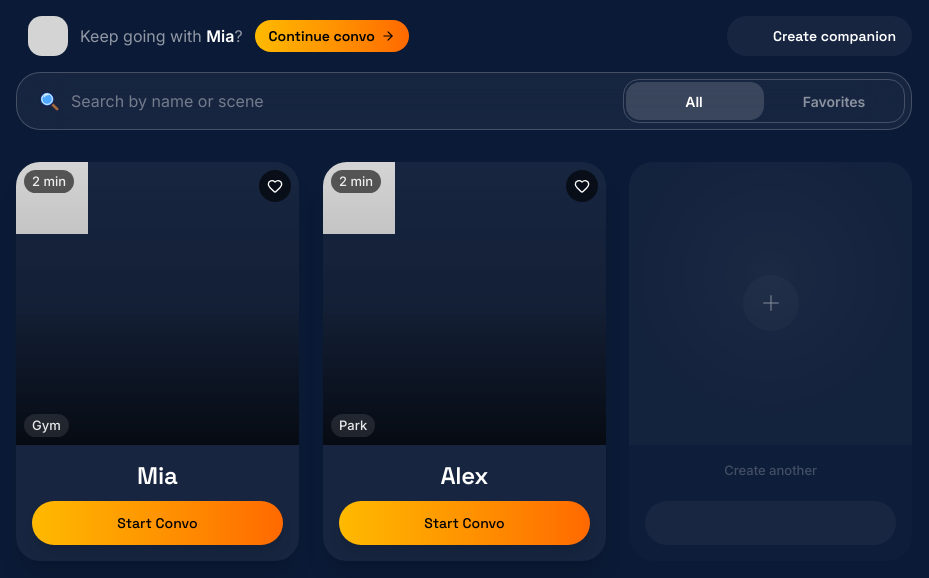
Test: DashboardCompanionList › filters by scene and shows no-results without the setup wizard
This screenshot has width=929, height=578.
Type "park" into the field named "Search companions" at point(334, 101), box [71,89,597,113]
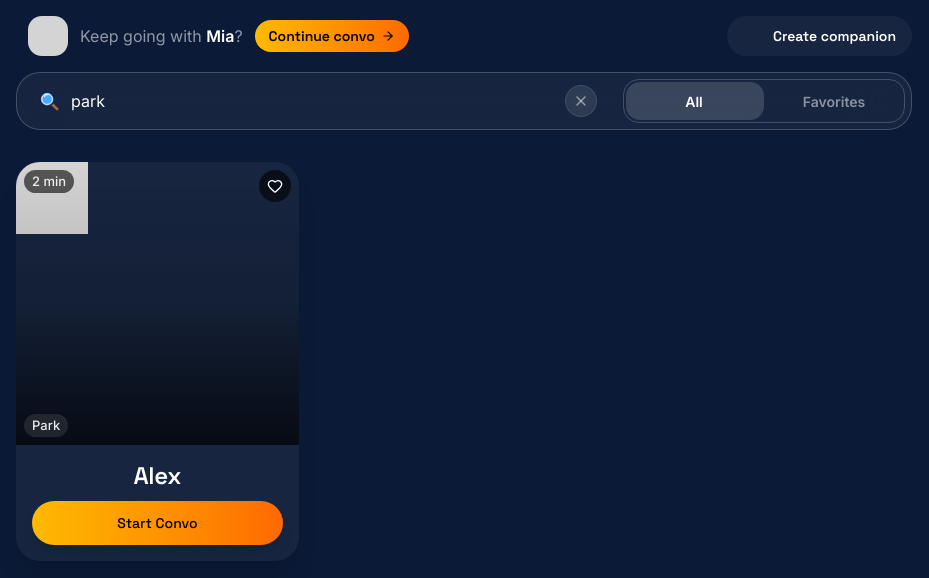
Check: the heading "Alex" is shown, box [133,460,181,491]
Clear the field named "Search companions" at point(313, 101), box [71,89,555,113]
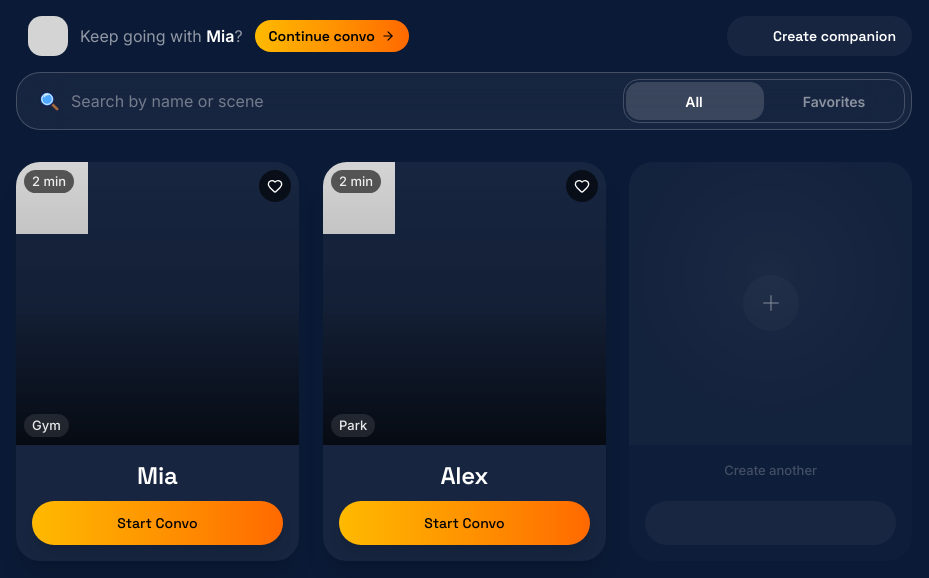
Type "zzz" into the field named "Search companions" at point(334, 101), box [71,89,597,113]
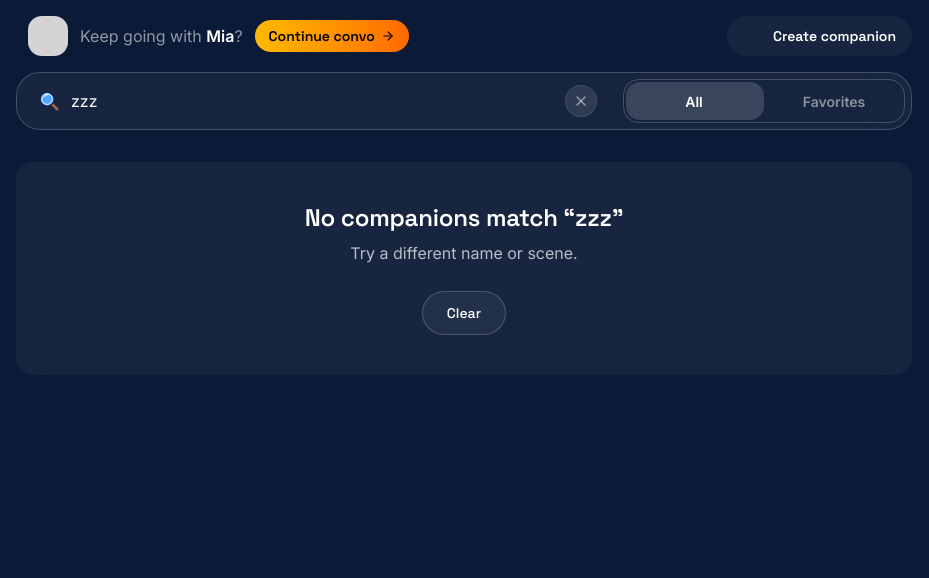
Check: the heading "No companions match “zzz”" is shown, box [305,202,623,233]
Click the button "Clear" at point(464, 313), box [422,291,506,335]
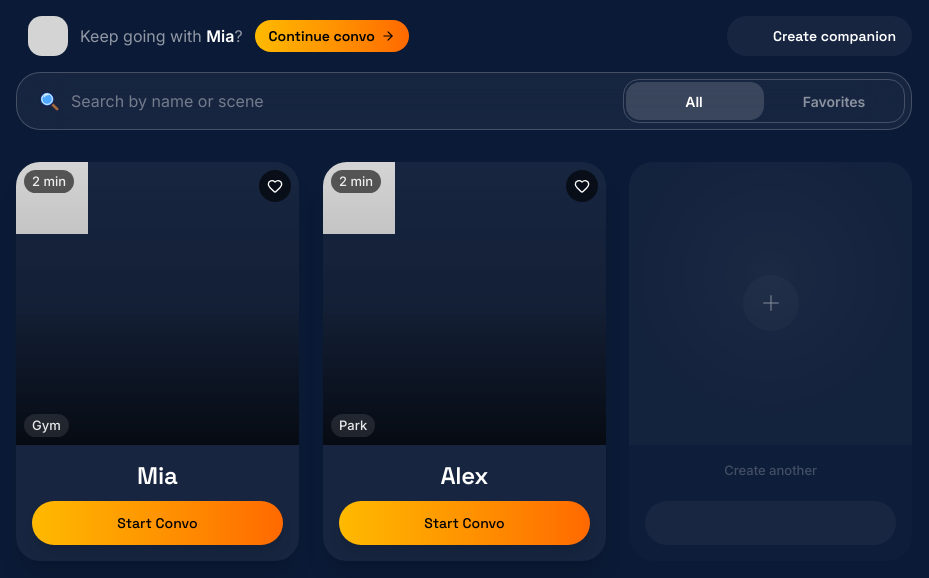
Check: the heading "Mia" is shown, box [137,460,178,491]
Check: the heading "Alex" is shown, box [440,460,488,491]
